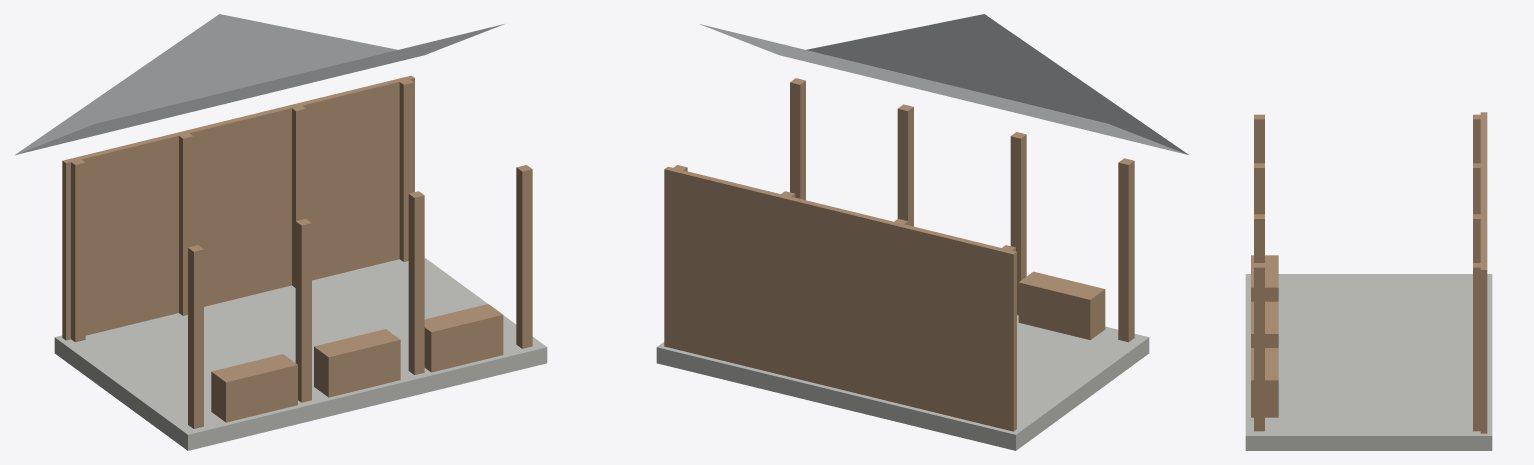
The model's file is gudang_sawmill.glb.
The picture shows the model from 3 angles, left to right: view 1: azimuth 30°, elevation 25°; view 2: azimuth 150°, elevation 25°; view 3: azimuth 270°, elevation 25°; orthographic projection. The views are drawn at different scales.
Parts seen in each view (by area): view 1: gudang_sawmill; view 2: gudang_sawmill; view 3: gudang_sawmill.
Part boxes in pixels (x1,y1,x2,y2): gudang_sawmill: (15,14,547,450); gudang_sawmill: (656,14,1188,450); gudang_sawmill: (1245,112,1492,450).
Size of the model in its own units: 8 by 5.3 by 5.5.
